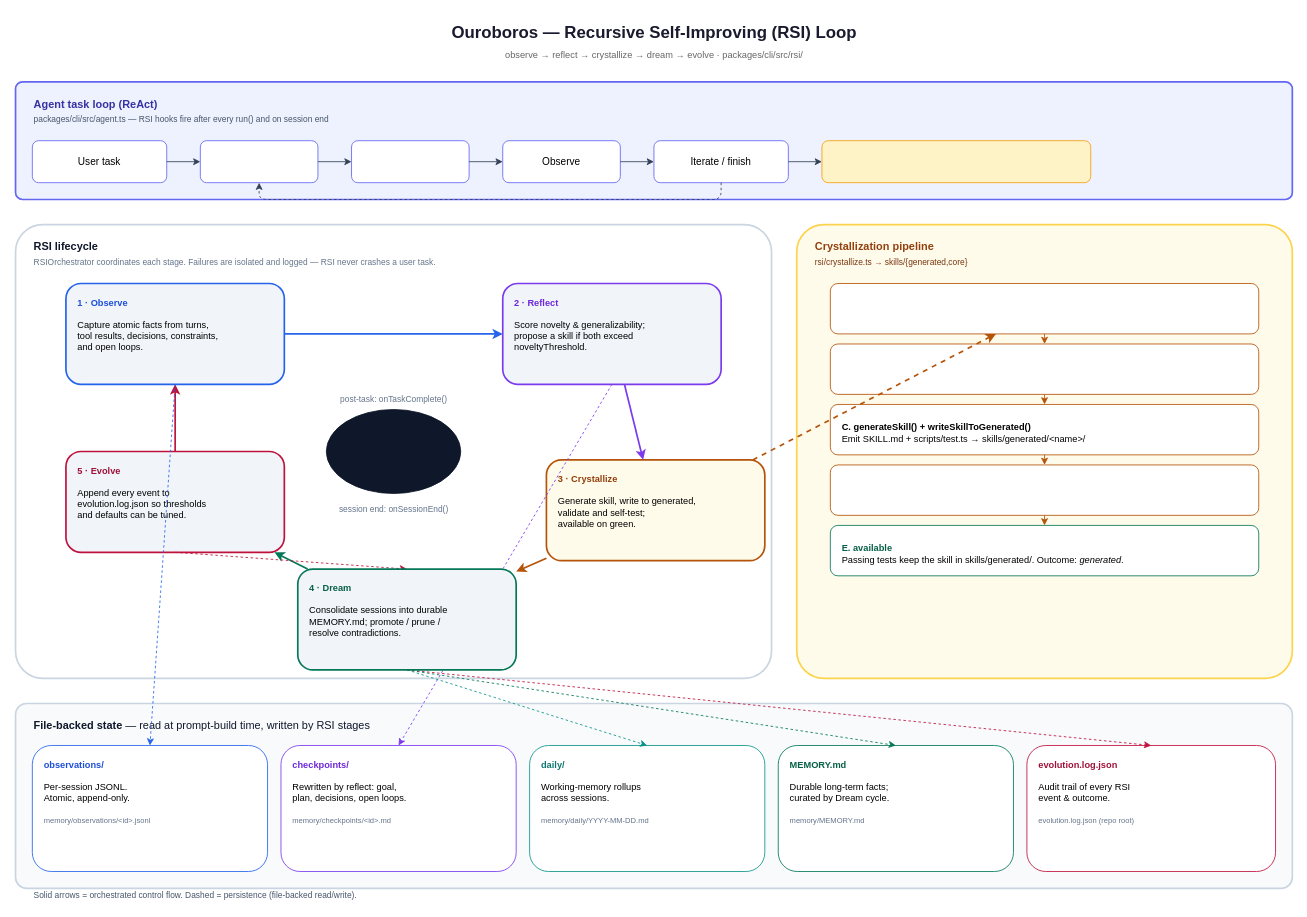
The diagram is 1307 pixels wide and 917 high, and some of its shapes have lost their labels. Each missing label, with the box of its shape:
A. reflect() Score novelty / generalizability against threshold.: (830, 283, 1259, 334)
Act (tools): (351, 140, 469, 183)
B. shouldCrystallize() Gate. If false → outcome: no-crystallization .: (830, 343, 1259, 394)
D. runSkillTests() On failure → outcome: test-failed .: (830, 464, 1259, 515)
onTaskComplete() · onSessionEnd(): (821, 140, 1091, 183)
Plan: (200, 140, 318, 183)
RSI Orchestrator rsi/orchestrator.ts: (326, 409, 461, 494)
